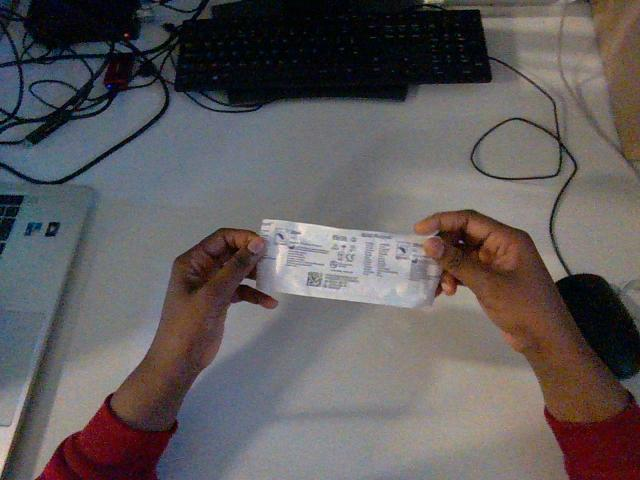syringe: (257, 219, 441, 307)
